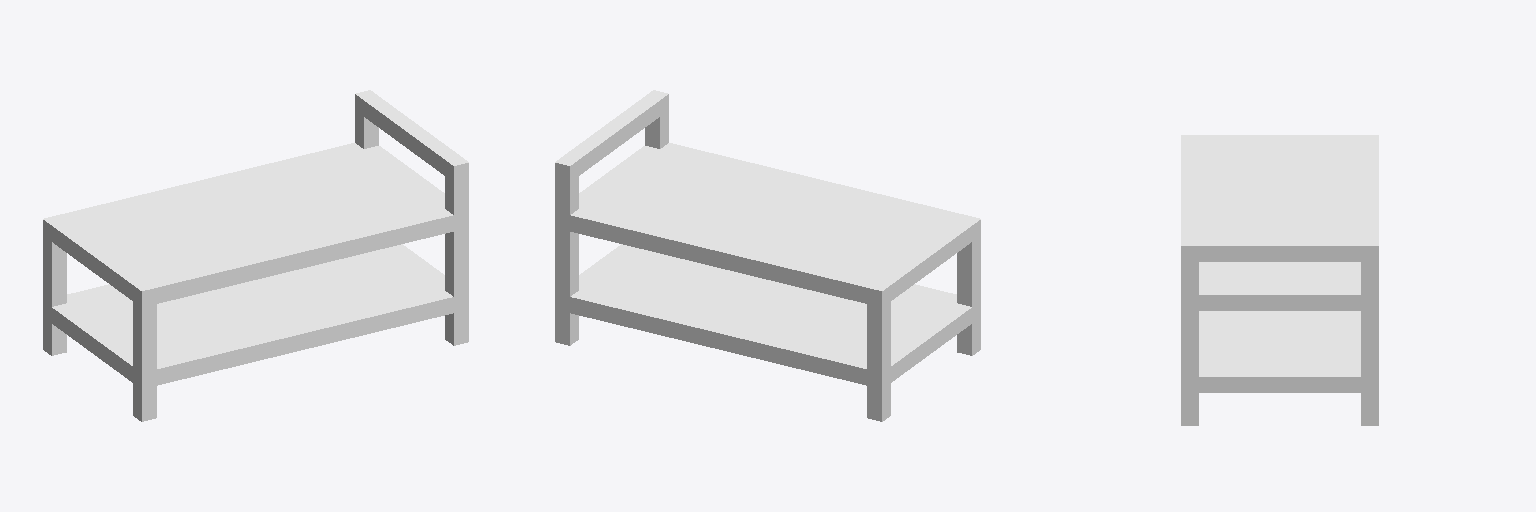
Rendered from 3rbit flos.obj.
The picture shows the model from 3 angles: view 1: azimuth 30°, elevation 25°; view 2: azimuth 150°, elevation 25°; view 3: azimuth 270°, elevation 25°; orthographic projection.
Parts seen in each view (by area): view 1: object 1; view 2: object 1; view 3: object 1.
Part boxes in pixels (left/top/right/bottom): object 1: left=43, top=90, right=468, bottom=421; object 1: left=555, top=90, right=980, bottom=421; object 1: left=1181, top=135, right=1378, bottom=425.
Size of the model in its own units: 2.1 by 1.1 by 1.1.